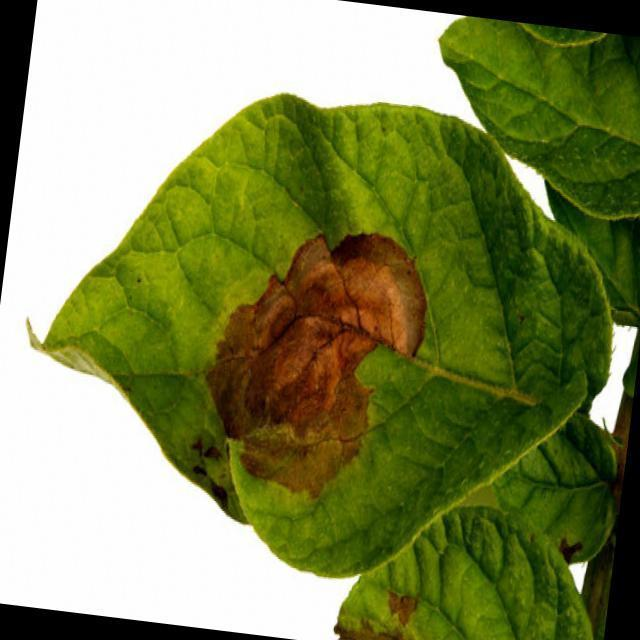Healthy Leaf: (416, 12, 640, 219)
